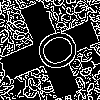O: (25, 25, 82, 79)
